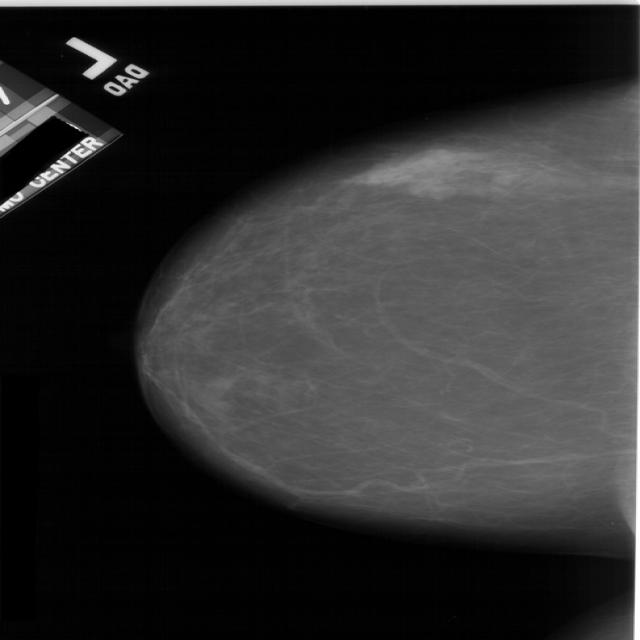tumour: (366, 147, 474, 183)
